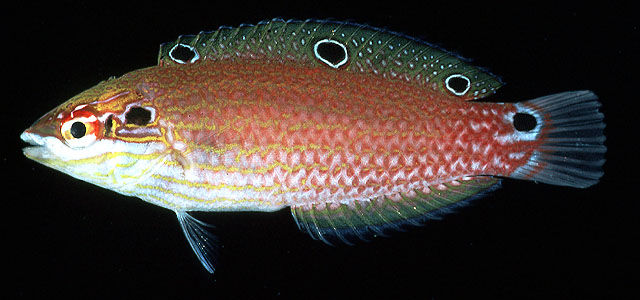fish: (20, 17, 607, 275)
